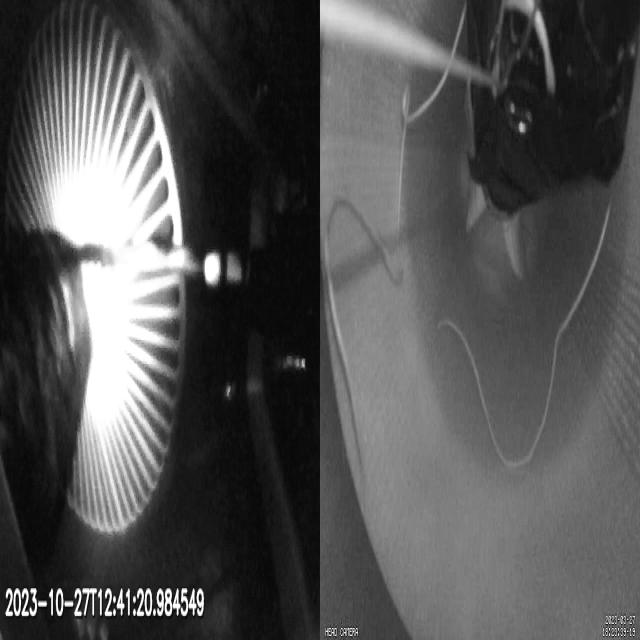white-dots: (203, 252, 242, 286)
